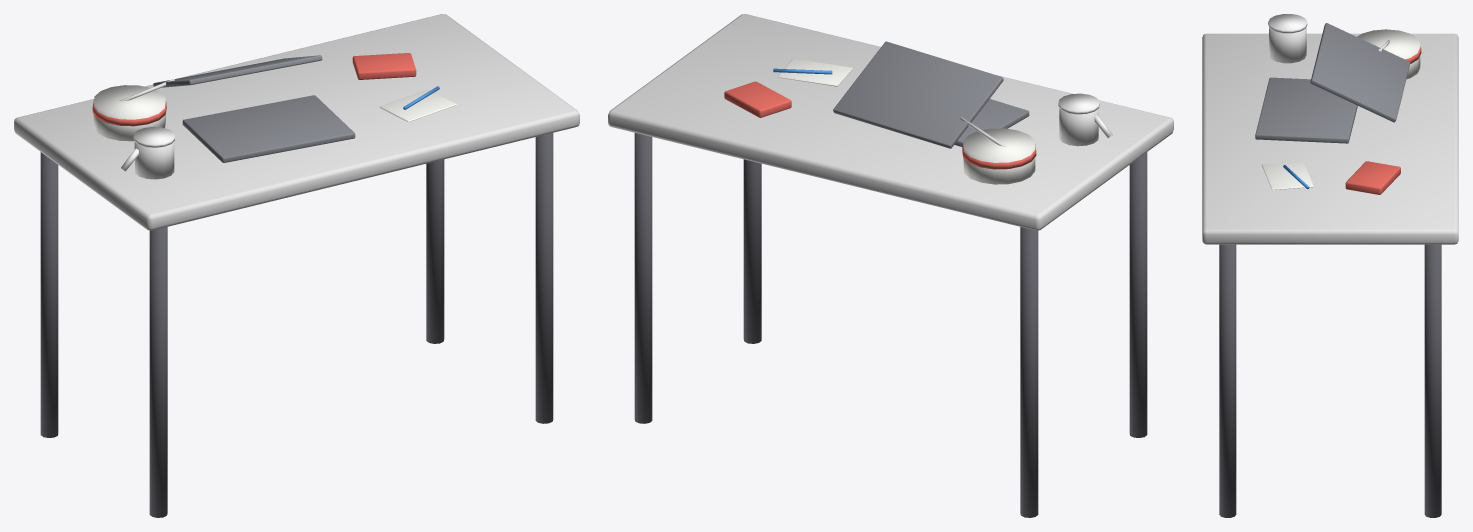
File: Indo_Desk_Messy.fbx
3 renders of one model, left to right at view 1: azimuth 30°, elevation 25°; view 2: azimuth 150°, elevation 25°; view 3: azimuth 270°, elevation 25°, orthographic. The views are drawn at different scales.
Parts seen in each view (by area): view 1: Indo_Desk_Messy; view 2: Indo_Desk_Messy; view 3: Indo_Desk_Messy.
Part boxes in pixels (box(x1,y1,x2,y2)): Indo_Desk_Messy: box(14, 14, 579, 517); Indo_Desk_Messy: box(608, 14, 1173, 517); Indo_Desk_Messy: box(1202, 14, 1458, 517).
Size of the model in its own units: 110 by 91.08 by 60.
